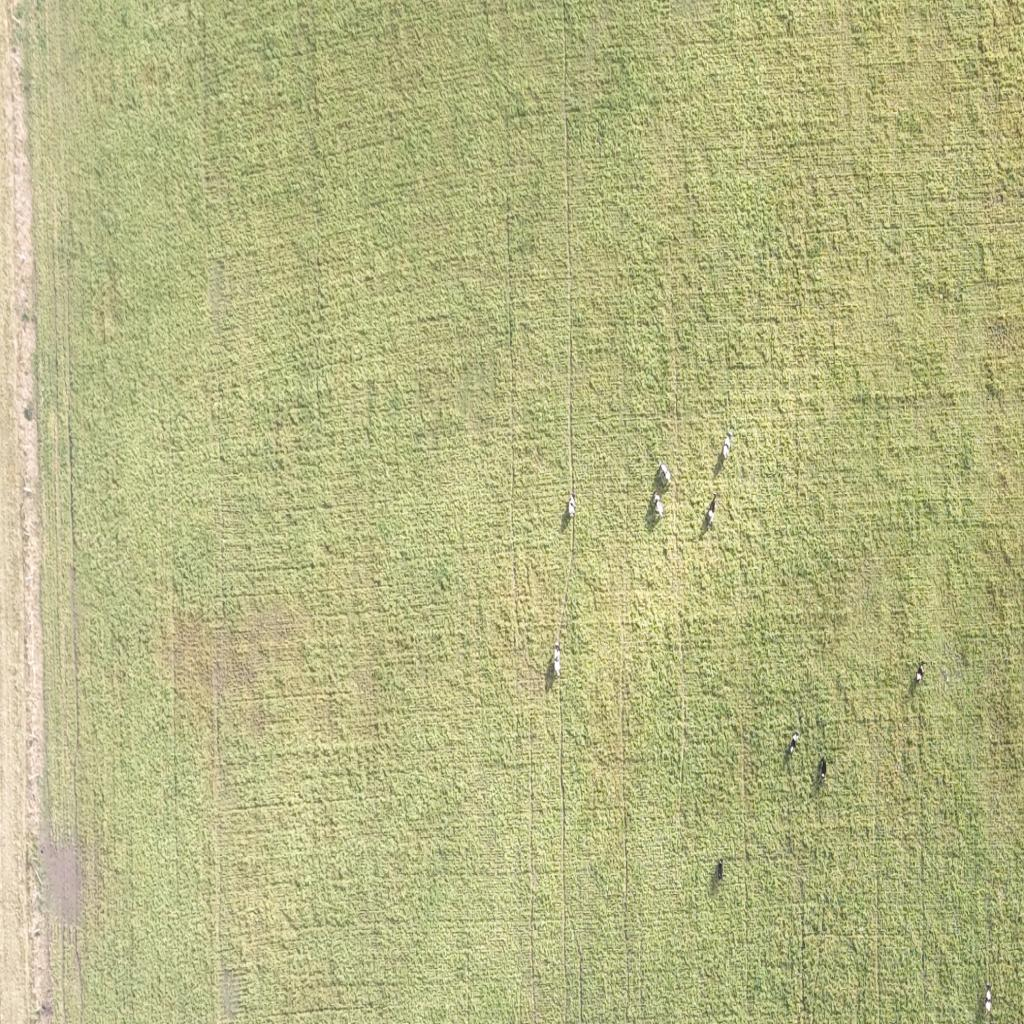cow: (722, 432, 732, 460), (659, 461, 671, 484), (654, 494, 664, 518), (554, 642, 561, 676), (708, 495, 716, 523), (789, 733, 799, 755), (568, 492, 576, 518), (819, 757, 827, 782), (986, 985, 992, 1013), (916, 662, 924, 682), (716, 860, 724, 880)
